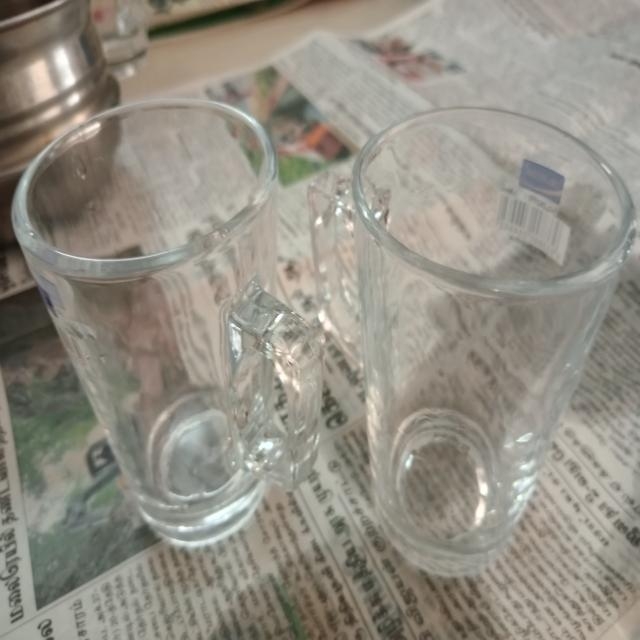glass-VX4N: (304, 103, 634, 578), (10, 85, 319, 555)
